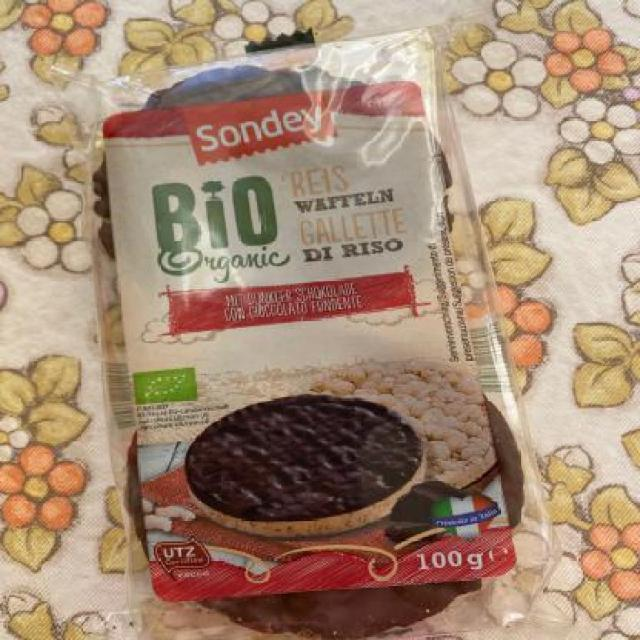Gallette di riso: (54, 26, 566, 640)
